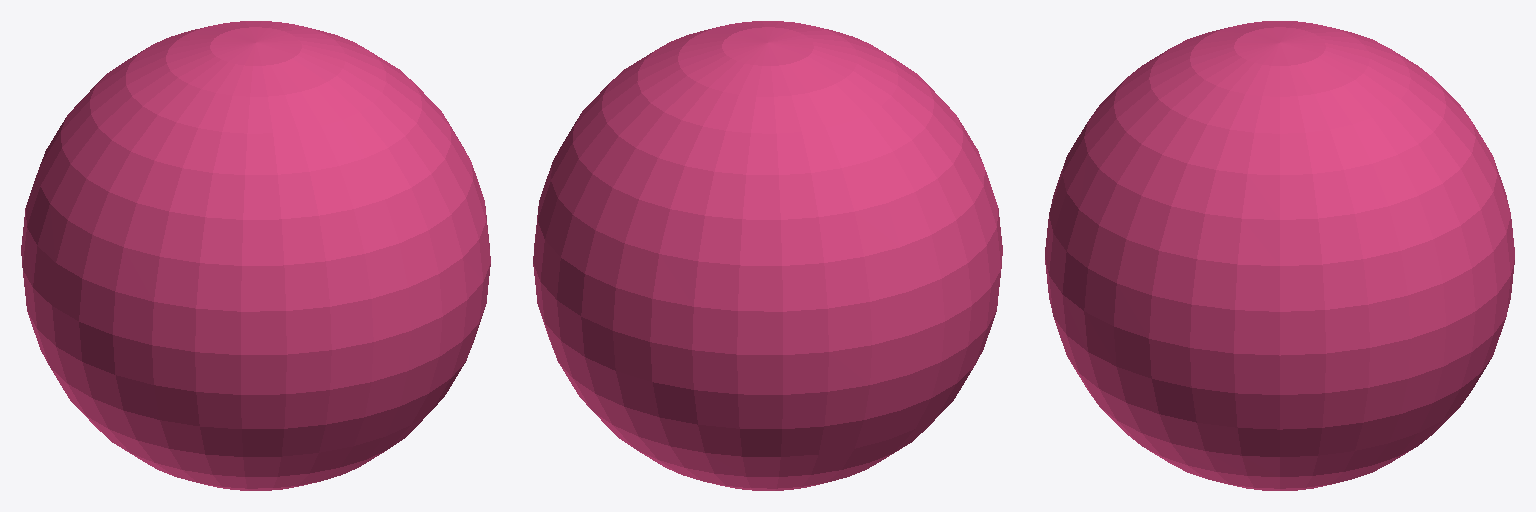
Rendered from standard_sphere.obj.
3 views of the same model, side by side, from view 1: azimuth 30°, elevation 25°; view 2: azimuth 150°, elevation 25°; view 3: azimuth 270°, elevation 25° (orthographic).
Parts seen in each view (by area): view 1: Sphere001; view 2: Sphere001; view 3: Sphere001.
Boxes of the visible parts, x1,y1,x2,y2 form: Sphere001: [21, 21, 490, 490]; Sphere001: [533, 21, 1002, 490]; Sphere001: [1045, 21, 1514, 490].
Bounding box in the file's own units: 2 × 2 × 2.